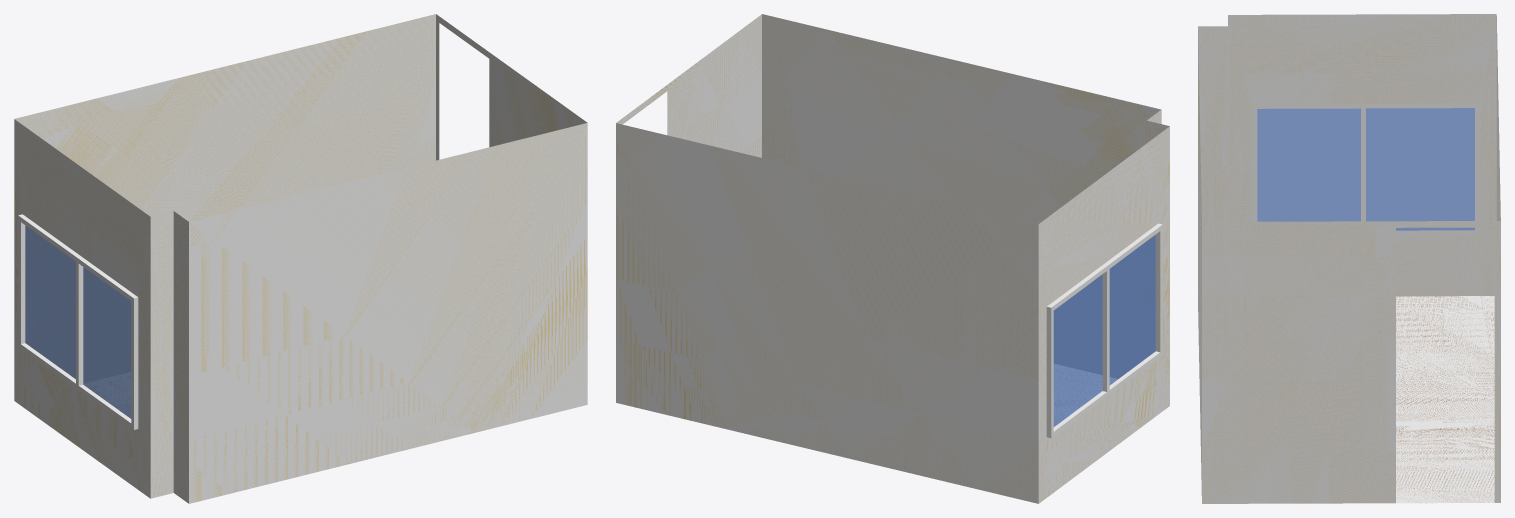
Rendered from DES038.obj.
The picture shows the model from 3 angles, left to right: view 1: azimuth 30°, elevation 25°; view 2: azimuth 150°, elevation 25°; view 3: azimuth 270°, elevation 25°; orthographic projection.
Visible parts, largest first — view 1: Mesh6 DES038 Model, Mesh1 ventana2_1 DES038 Model; view 2: Mesh6 DES038 Model, Mesh1 ventana2_1 DES038 Model; view 3: Mesh6 DES038 Model, Mesh1 ventana2_1 DES038 Model.
Boxes of the visible parts, left/top/right/bottom form: Mesh6 DES038 Model: left=14, top=14, right=587, bottom=503; Mesh1 ventana2_1 DES038 Model: left=18, top=214, right=138, bottom=429; Mesh6 DES038 Model: left=616, top=14, right=1169, bottom=503; Mesh1 ventana2_1 DES038 Model: left=1046, top=223, right=1162, bottom=438; Mesh6 DES038 Model: left=1198, top=14, right=1500, bottom=503; Mesh1 ventana2_1 DES038 Model: left=1252, top=103, right=1480, bottom=235.
Size of the model in its own units: 4.79 by 3 by 2.92.
Materials: 5 (1 with a texture image).
